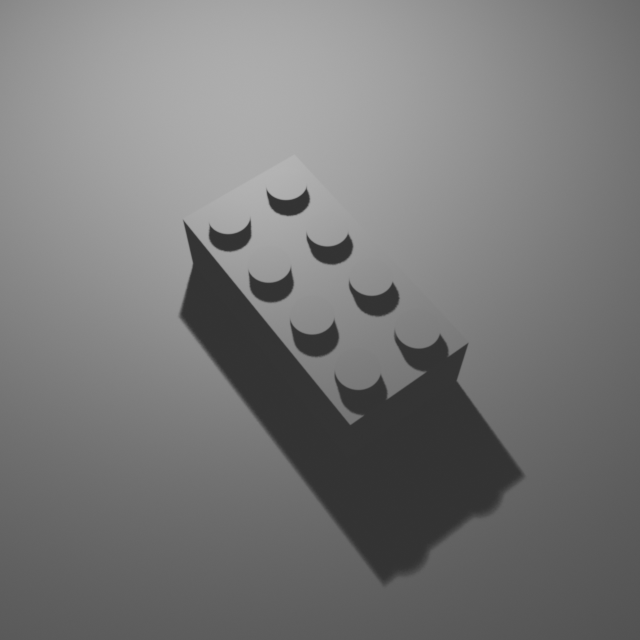lego_2x4: (181, 146, 471, 458)
